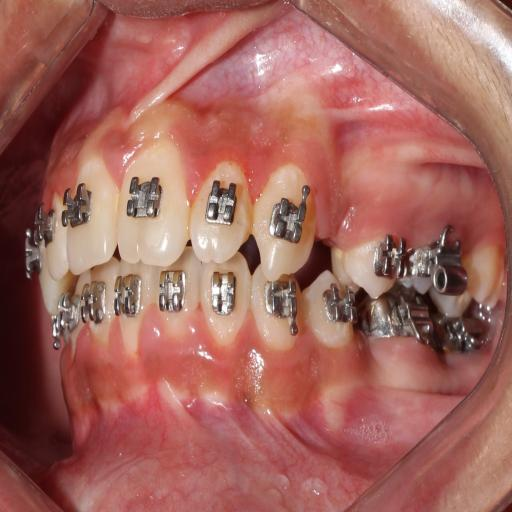correct_brace: (334, 217, 404, 297), (126, 168, 162, 227), (204, 174, 240, 230), (271, 194, 304, 251), (58, 180, 93, 233)
incorrect_brace: (193, 156, 252, 269), (372, 228, 405, 282)
